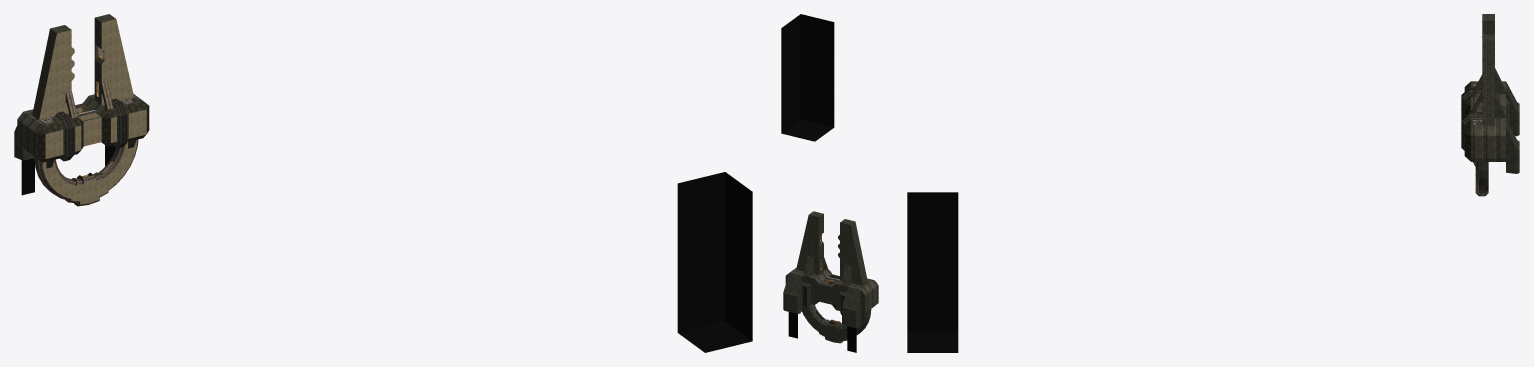
File: DM-HyperNova.obj
3 renders of one model, left to right at view 1: azimuth 30°, elevation 25°; view 2: azimuth 150°, elevation 25°; view 3: azimuth 270°, elevation 25°, orthographic. The views are drawn at different scales.
Visible parts, largest first — view 1: Indus4_STARSBG, UTtech2_Floor_rClfFlr6x, UTtech2_Wall_rClfWl4, UTtech2_Deco_rClfBox2, UTtech2_Wall_rClfWl3, UTtech2_Trim_rClfTrm2x, UTtech2_pillar_rClfPlr5, UTtech2_pillar_rClfPlr3, Indus4_EngineEx; view 2: Indus4_STARSBG, UTtech2_Base_rClfBsG3, UTtech2_Ceiling_rClfClg2, UTtech2_Wall_rClfWl4, UTtech2_Wall_rClfWl3, UTtech2_pillar_rClfPlr5, Indus4_EngineEx, UTtech2_pillar_rClfPlr3; view 3: Indus4_STARSBG, UTtech2_Wall_rClfWl4, UTtech2_Wall_rClfWl3, UTtech2_Base_rClfBsG3, UTtech2_pillar_rClfPlr5.
Boxes of the visible parts, x1,y1,x2,y2 form: Indus4_STARSBG: (677, 172, 752, 352); UTtech2_Floor_rClfFlr6x: (39, 19, 146, 204); UTtech2_Wall_rClfWl4: (32, 14, 119, 206); UTtech2_Deco_rClfBox2: (36, 101, 149, 162); UTtech2_Wall_rClfWl3: (17, 94, 142, 160); UTtech2_Trim_rClfTrm2x: (38, 139, 138, 206); UTtech2_pillar_rClfPlr5: (46, 101, 136, 168); UTtech2_pillar_rClfPlr3: (57, 98, 127, 175); Indus4_EngineEx: (21, 145, 115, 195); Indus4_STARSBG: (781, 14, 834, 141); UTtech2_Base_rClfBsG3: (783, 256, 865, 341); UTtech2_Ceiling_rClfClg2: (796, 215, 862, 325); UTtech2_Wall_rClfWl4: (809, 211, 871, 343); UTtech2_Wall_rClfWl3: (783, 267, 878, 313); UTtech2_pillar_rClfPlr5: (802, 282, 868, 343); Indus4_EngineEx: (788, 312, 856, 352); UTtech2_pillar_rClfPlr3: (803, 286, 845, 324); Indus4_STARSBG: (907, 192, 958, 352); UTtech2_Wall_rClfWl4: (1472, 14, 1494, 196); UTtech2_Wall_rClfWl3: (1471, 81, 1519, 161); UTtech2_Base_rClfBsG3: (1471, 68, 1519, 173); UTtech2_pillar_rClfPlr5: (1461, 90, 1509, 192).
Size of the model in its own units: 169 by 69.49 by 234.
